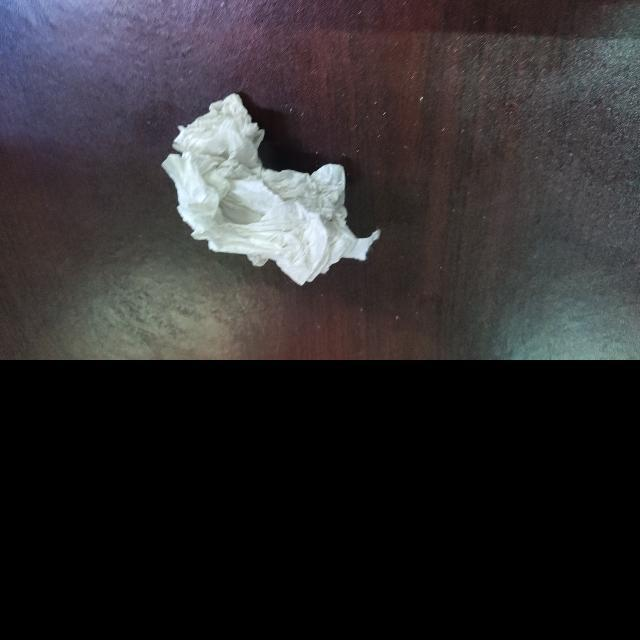kitchen paper: (160, 88, 388, 292)
